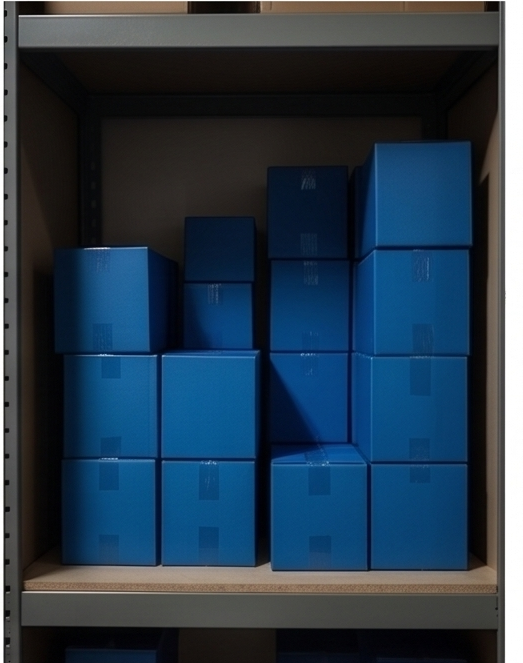blue_box: (360, 142, 472, 261), (55, 248, 178, 353), (272, 442, 369, 572), (355, 355, 468, 462), (356, 250, 470, 355), (162, 347, 261, 460), (372, 464, 469, 571), (162, 461, 258, 566), (63, 459, 156, 566), (63, 355, 159, 458), (269, 166, 349, 260), (271, 260, 350, 351), (272, 352, 350, 442), (185, 284, 255, 351), (185, 217, 254, 282)
